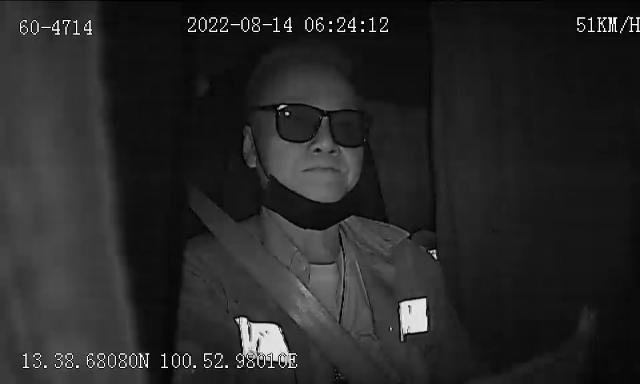SafeDriving: (276, 106, 312, 124)
Seatbelt: (192, 186, 382, 384)
